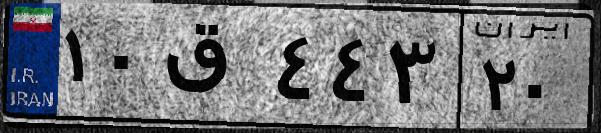0: (525, 38, 570, 115), (110, 28, 158, 98)
1: (57, 26, 110, 100)
2: (475, 38, 525, 113)
3: (385, 28, 445, 110)
4: (270, 28, 330, 110), (330, 28, 385, 110)
ق: (158, 20, 270, 120)
